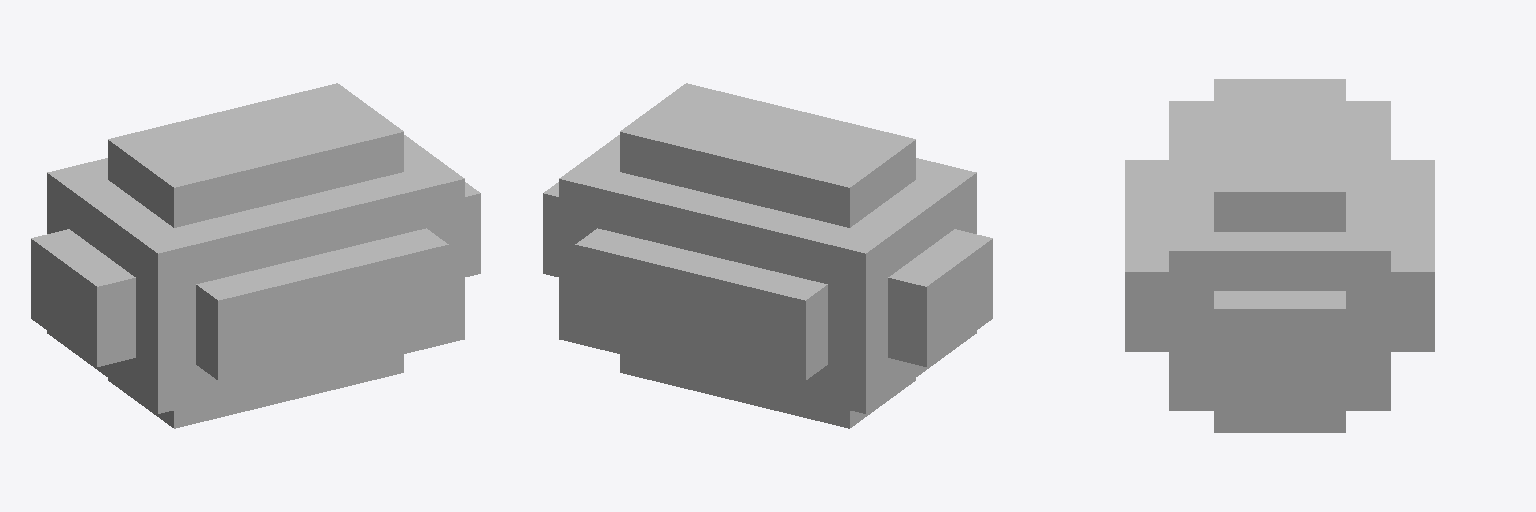
Rendered from Stone.obj.
3 renders of one model, left to right at view 1: azimuth 30°, elevation 25°; view 2: azimuth 150°, elevation 25°; view 3: azimuth 270°, elevation 25°, orthographic.
Parts seen in each view (by area): view 1: object 1; view 2: object 1; view 3: object 1.
Boxes of the visible parts, x1,y1,x2,y2 form: object 1: [31, 83, 480, 428]; object 1: [543, 83, 992, 428]; object 1: [1125, 79, 1434, 432].
Bounding box in the file's own units: 1 × 0.6 × 0.7.